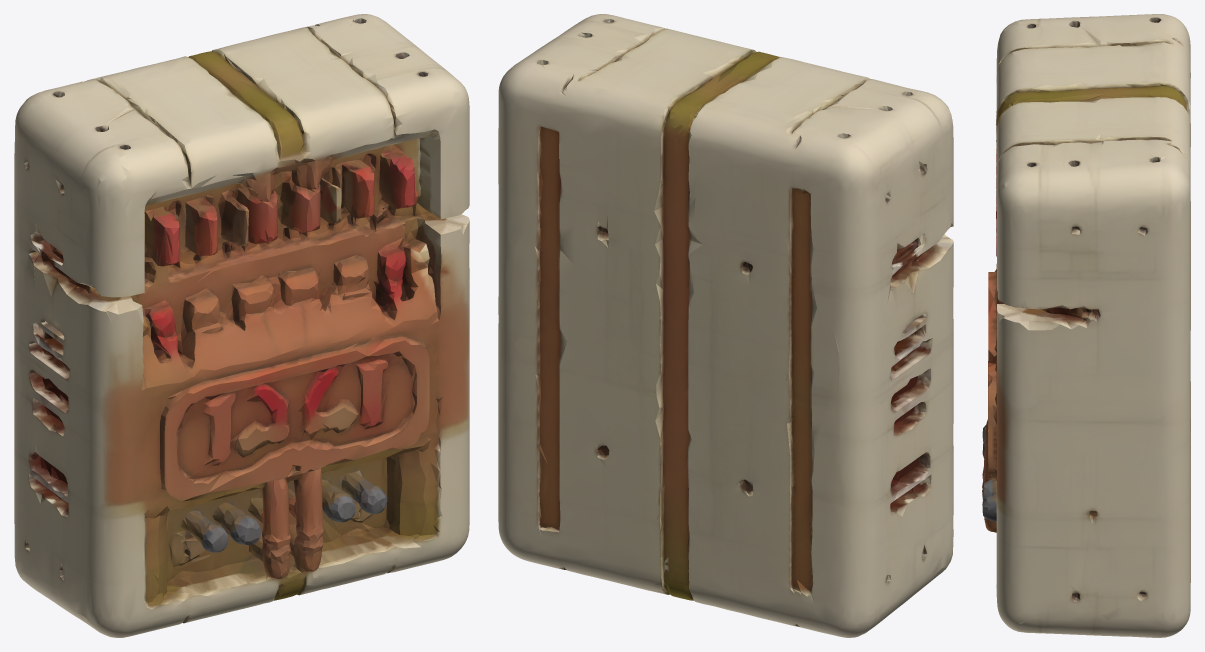
Rendered from Prop_PipeManifold.glb.
The picture shows the model from 3 angles, left to right: view 1: azimuth 30°, elevation 25°; view 2: azimuth 150°, elevation 25°; view 3: azimuth 270°, elevation 25°; orthographic projection. The views are drawn at different scales.
Visible parts, largest first — view 1: Prop_PipeManifold; view 2: Prop_PipeManifold; view 3: Prop_PipeManifold.
Part boxes in pixels (bbox=[...]): Prop_PipeManifold: bbox=[14, 14, 469, 637]; Prop_PipeManifold: bbox=[498, 14, 953, 637]; Prop_PipeManifold: bbox=[982, 14, 1190, 637].
Size of the model in its own units: 1.2 by 1.5 by 0.6008.
Materials: 1 (1 with a texture image).
